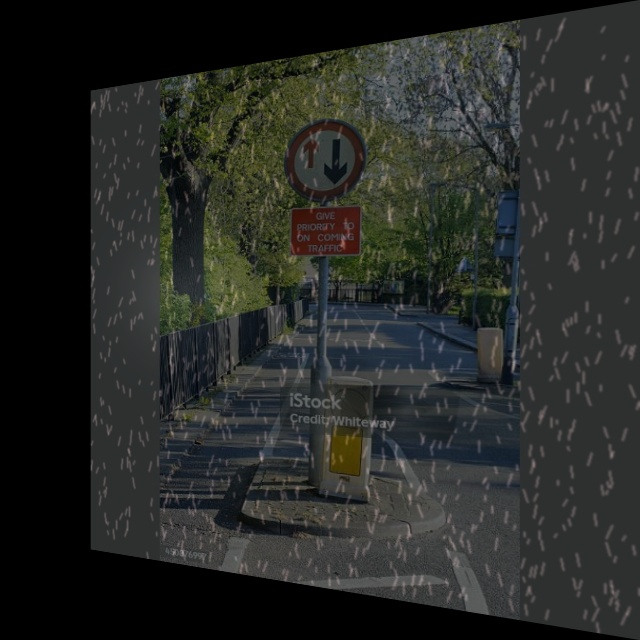Priority_for_Oncoming_Traffic: (287, 116, 366, 203)
